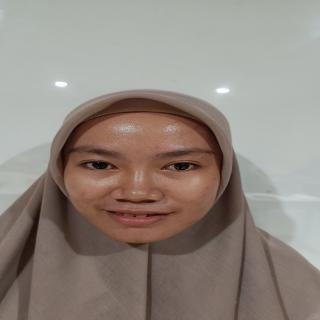Senang: (62, 105, 223, 251)
